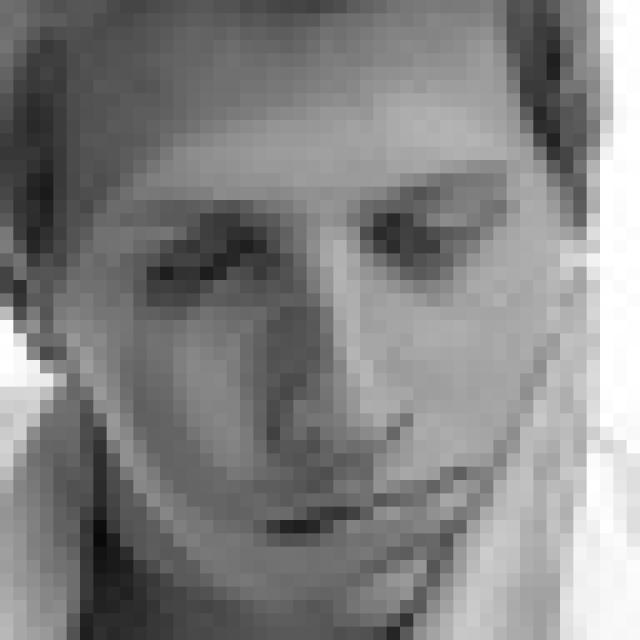sad: (118, 152, 523, 560)
